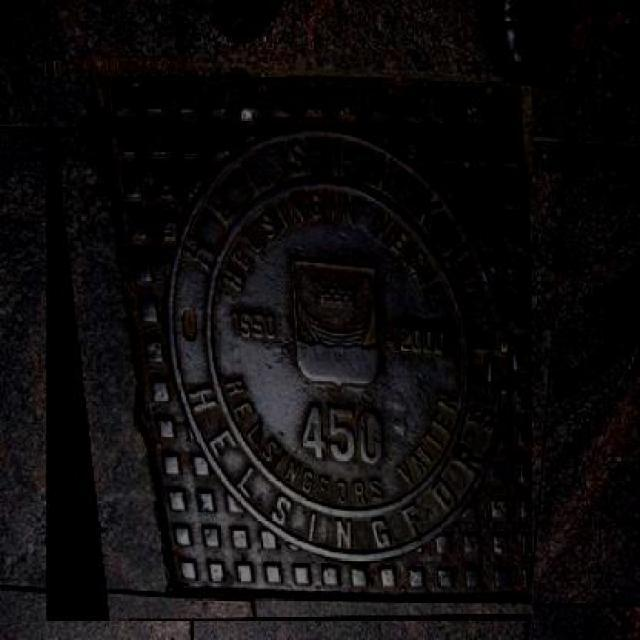Manhole: (46, 49, 532, 620)
